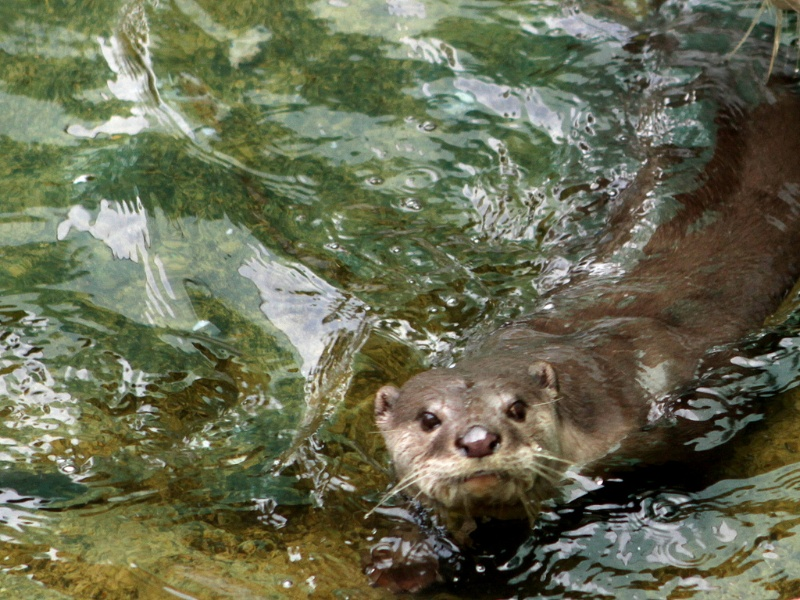minkish: (370, 55, 800, 551)
